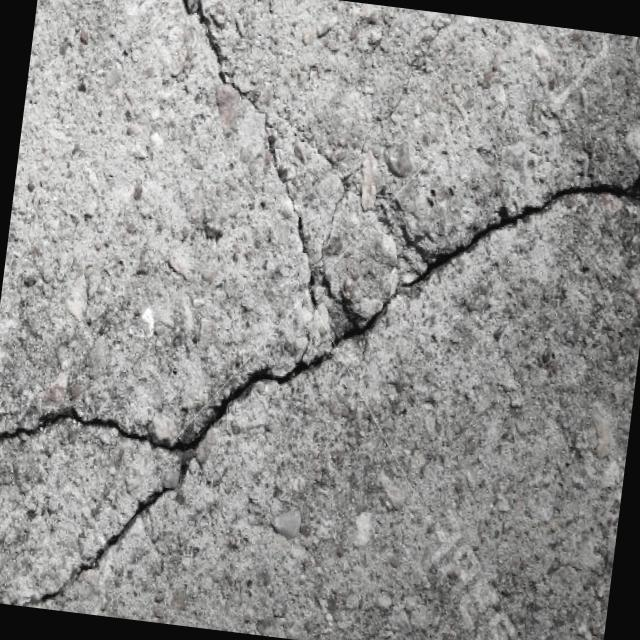crack: (187, 114, 640, 523), (116, 0, 366, 299), (0, 391, 190, 618)
